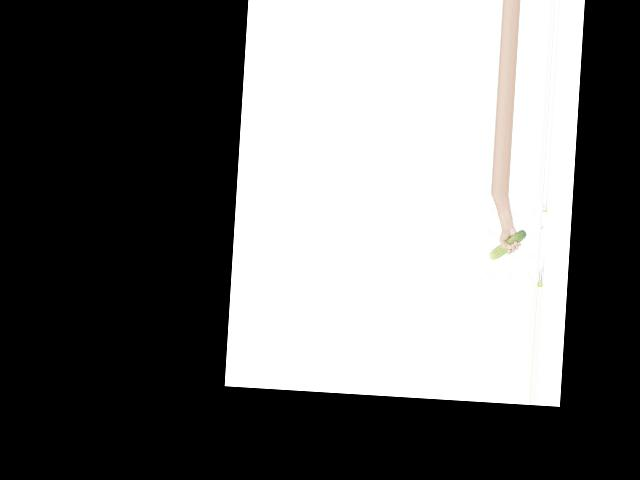cucumber: (489, 227, 527, 261)
